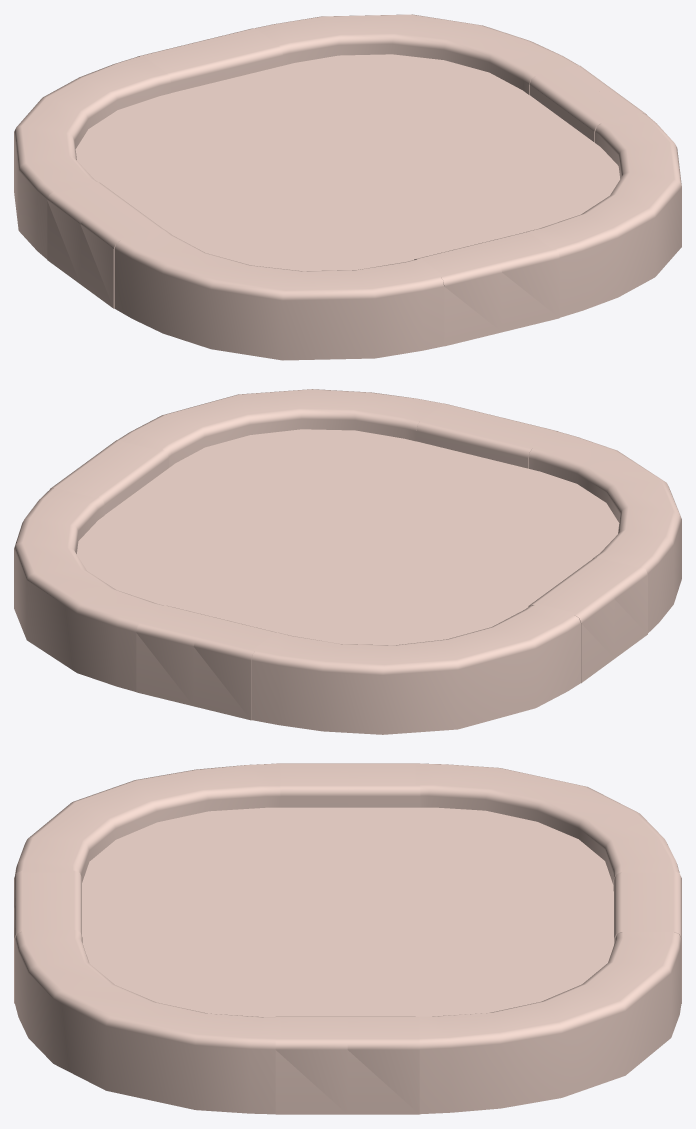
Rendered from Big circle oval curb.fbx.
3 views of the same model, one above another, from view 1: azimuth 30°, elevation 25°; view 2: azimuth 150°, elevation 25°; view 3: azimuth 270°, elevation 25° (orthographic). The views are drawn at different scales.
Visible parts, largest first — view 1: Big circle curb; view 2: Big circle curb; view 3: Big circle curb.
Part boxes in pixels (box(x1,y1,x2,y2)): Big circle curb: box(14, 14, 681, 360); Big circle curb: box(14, 389, 681, 734); Big circle curb: box(14, 763, 681, 1114).
Size of the model in its own units: 251 by 29.94 by 251.
